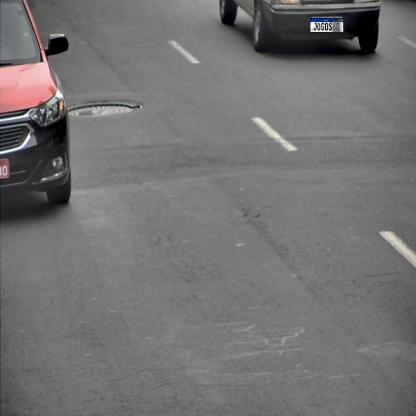PlacaM: (310, 18, 344, 33)
